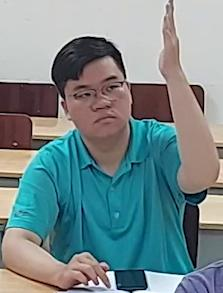Raising_Hand: (0, 0, 213, 285)
